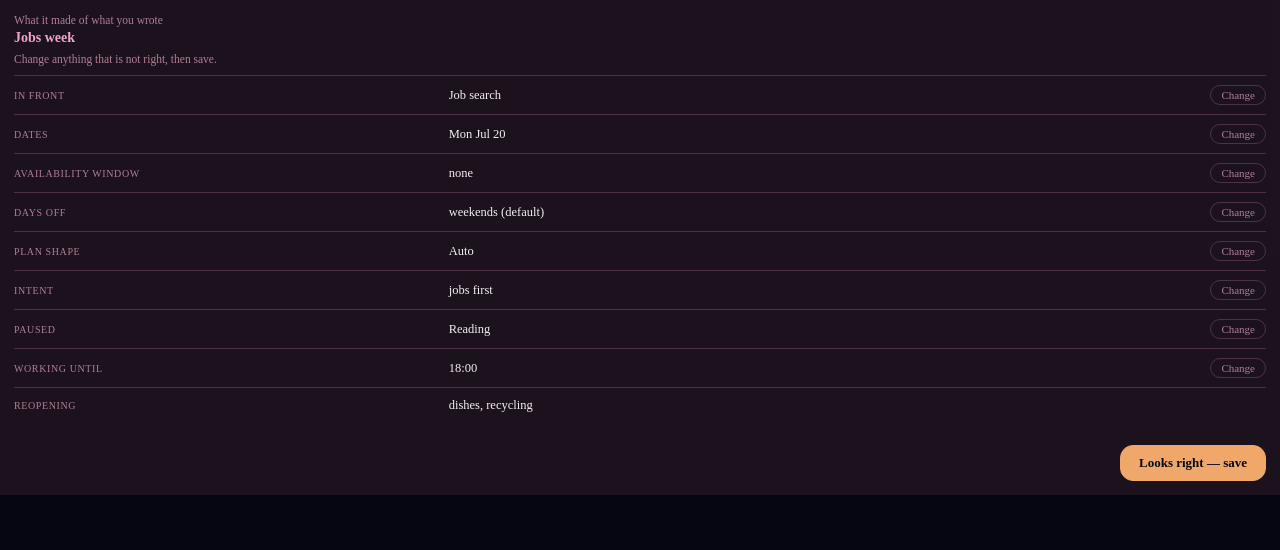
Test case: each item opens its own editor — not a text box for everything › opens the PLAN-SHAPE choices for the output item, not a text box
Expected: the text "Jobs week" is shown, [14,30,75,45]
Click the button with aria-label "change Plan shape". click: x=1238, y=251
box: [1210,241,1266,261]
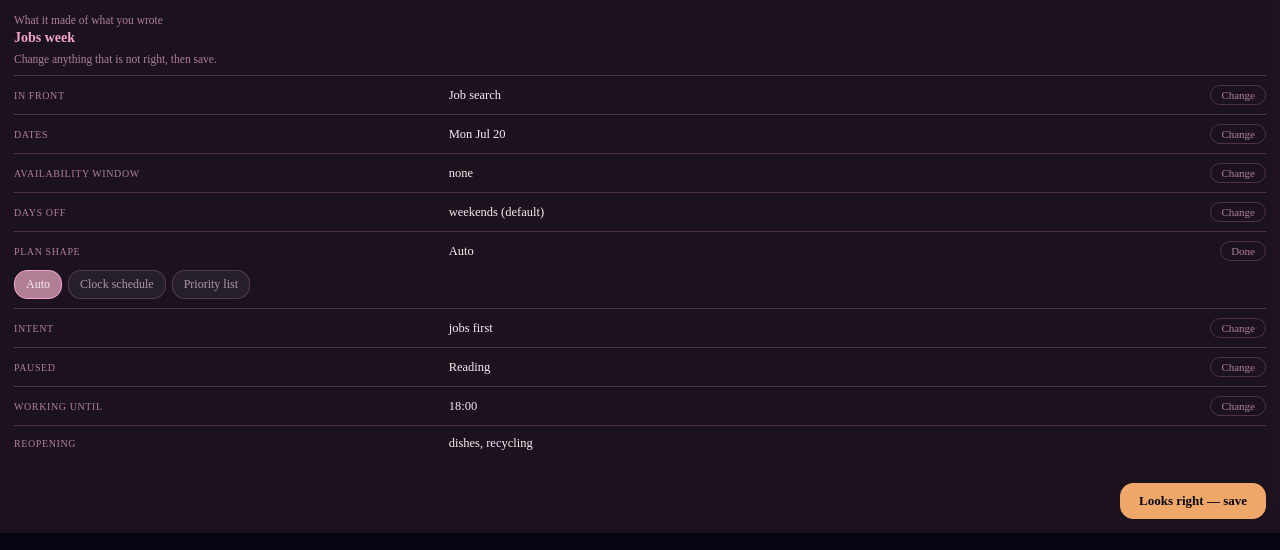
Expected: the button "Clock schedule" is shown, [68,270,166,299]
Expected: the button "Priority list" is shown, [172,270,250,299]
